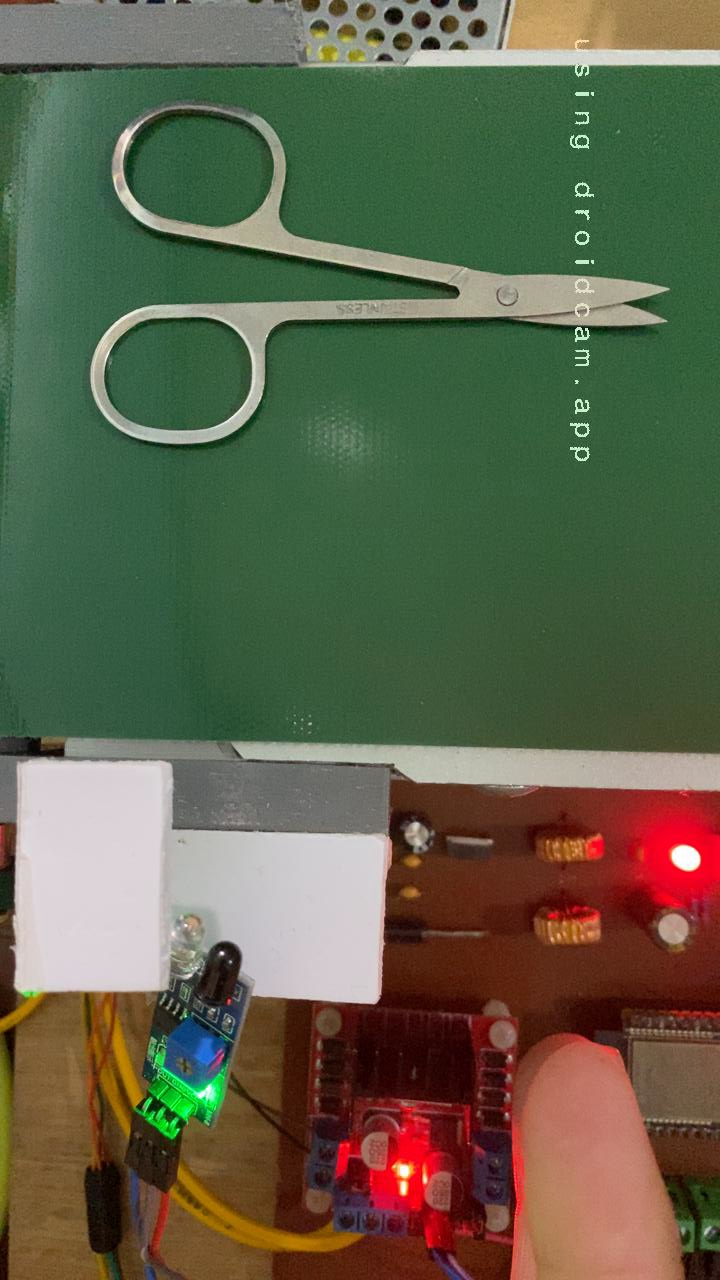scissor: (83, 95, 669, 453)
